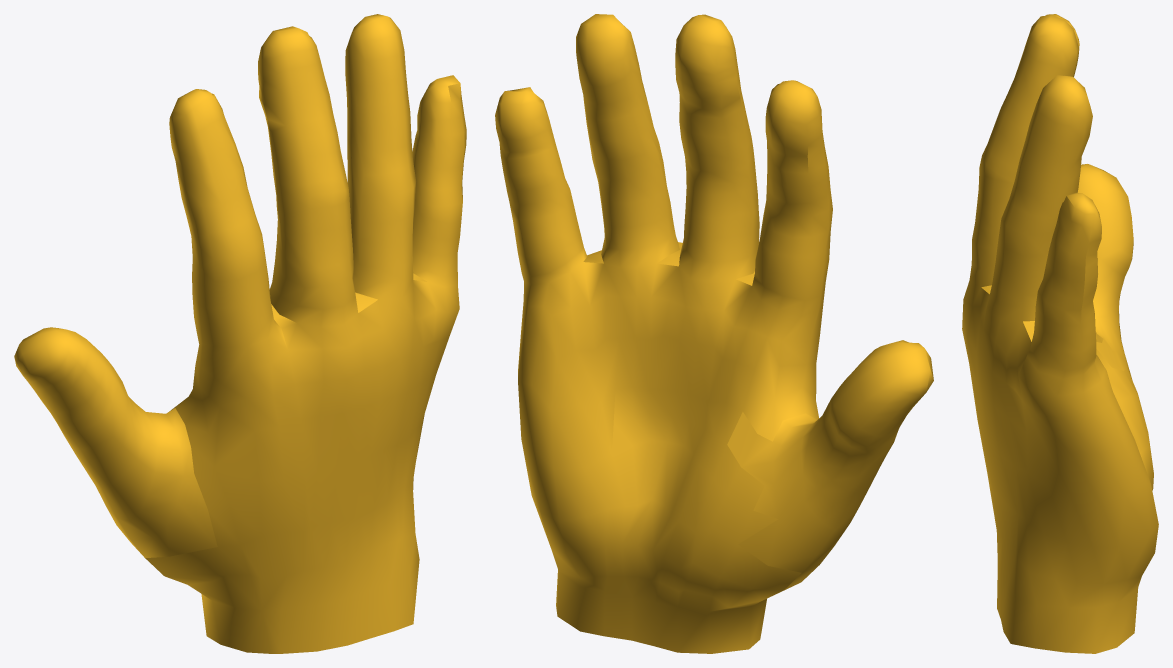
The model's file is armR (1).fbx.
3 views of the same model, side by side, from view 1: azimuth 30°, elevation 25°; view 2: azimuth 150°, elevation 25°; view 3: azimuth 270°, elevation 25° (orthographic). The views are drawn at different scales.
Visible parts, largest first — view 1: Plane; view 2: Plane; view 3: Plane.
Boxes of the visible parts, x1,y1,x2,y2 form: Plane: (14, 14, 466, 653); Plane: (495, 14, 933, 653); Plane: (962, 14, 1158, 653).
Size of the model in its own units: 1493 by 1975 by 609.
